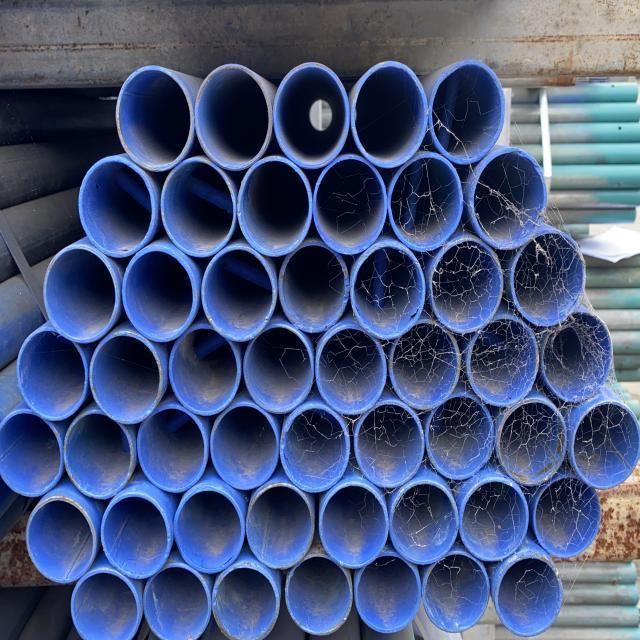pipe: (494, 380, 582, 501), (60, 392, 148, 505), (203, 397, 293, 507), (111, 65, 201, 174), (270, 397, 357, 509), (190, 60, 274, 174), (421, 391, 507, 501), (350, 394, 435, 505), (129, 397, 215, 506), (426, 59, 515, 164), (454, 469, 535, 584), (314, 470, 398, 580), (468, 153, 559, 254), (270, 62, 354, 171), (79, 152, 165, 258), (350, 58, 432, 168), (539, 302, 628, 402), (163, 483, 250, 583), (28, 483, 110, 589), (161, 152, 242, 257), (507, 228, 591, 328), (41, 243, 121, 347), (348, 540, 431, 640), (2, 394, 75, 507), (424, 231, 506, 331), (530, 469, 609, 572), (238, 480, 321, 578), (13, 319, 92, 421), (87, 328, 168, 427), (121, 243, 200, 344), (348, 238, 428, 337), (203, 244, 281, 344), (237, 154, 311, 259), (419, 545, 501, 639), (386, 477, 463, 577), (571, 388, 639, 501), (461, 316, 545, 407), (102, 485, 176, 588), (386, 152, 464, 249), (315, 154, 390, 252), (493, 543, 568, 640), (166, 324, 245, 416), (282, 547, 359, 639), (386, 320, 463, 411), (240, 321, 314, 414), (277, 239, 351, 331), (315, 324, 389, 414), (211, 551, 285, 640), (139, 560, 215, 640), (64, 568, 142, 640)
